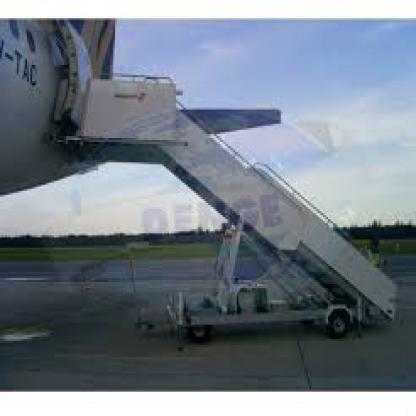boarding stairs: (81, 71, 401, 337)
